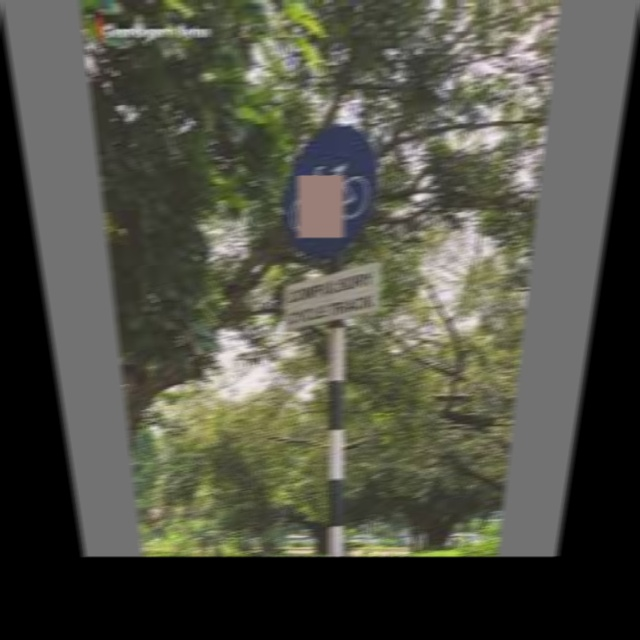Compulsory_Cycle_Track: (276, 125, 391, 257)
